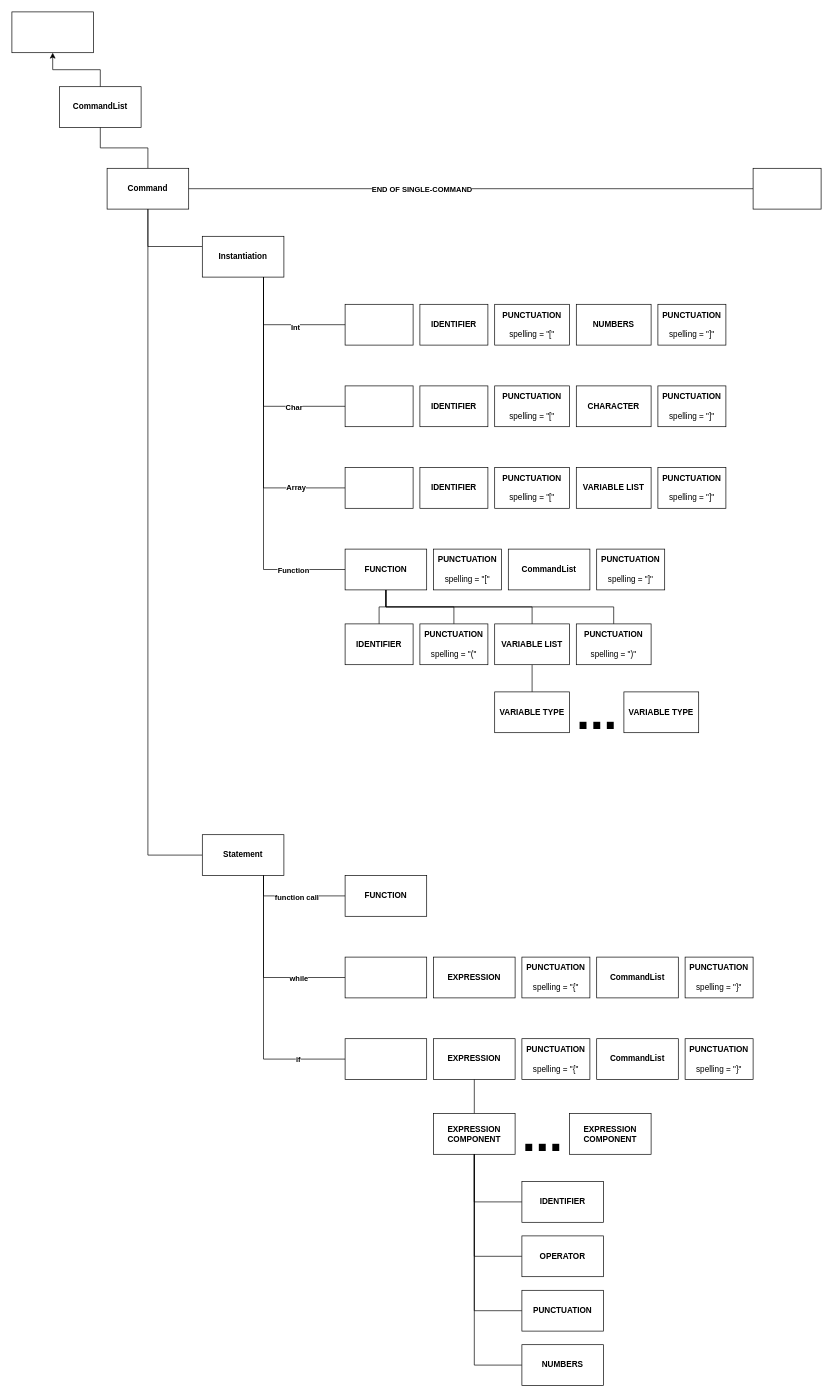
Image size: 833x1397. Some labels were removed from this diagram. Here are the shapes that lost their labels. From the top down, the centre of each, then its label:
point (52, 32): Program
point (786, 188): PUNCTUATION spelling = ";"
point (378, 324): IDENTIFIER spelling = "Int"
point (378, 406): IDENTIFIER spelling = "Char"
point (378, 487): IDENTIFIER spelling = "Array"
point (385, 977): IDENTIFIER spelling = "&"
point (385, 1059): IDENTIFIER spelling = "if"
